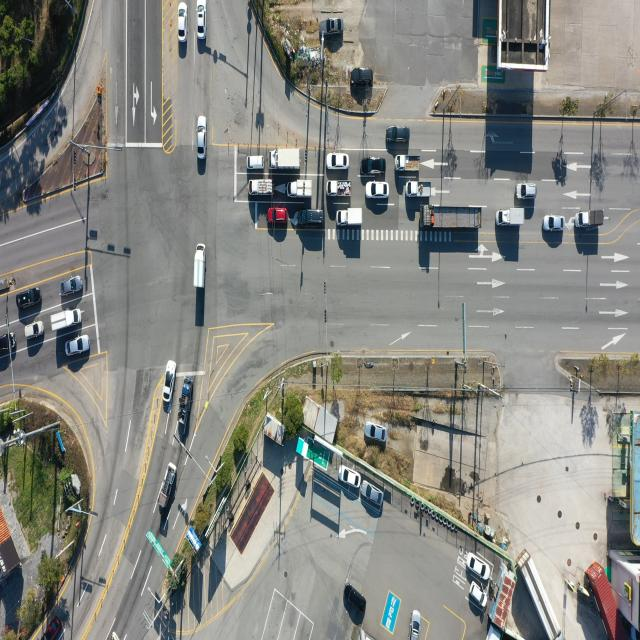car: (345, 582, 366, 615), (469, 554, 492, 581), (294, 209, 322, 229), (339, 464, 362, 488), (361, 483, 384, 507), (65, 337, 90, 358), (470, 583, 489, 609), (17, 288, 41, 308), (165, 360, 176, 403), (61, 276, 84, 296), (364, 422, 386, 442), (364, 181, 388, 199), (198, 116, 208, 159), (385, 126, 408, 144), (352, 67, 374, 85), (325, 16, 347, 34), (327, 154, 348, 172), (410, 610, 422, 640), (198, 0, 207, 40), (178, 3, 187, 43), (542, 215, 564, 231), (0, 334, 16, 356), (516, 182, 536, 199), (25, 321, 45, 338), (268, 208, 288, 225)
medium_truck: (520, 548, 563, 638), (426, 208, 483, 230), (272, 147, 302, 169)
small_truck: (158, 463, 177, 506), (178, 374, 193, 428), (51, 308, 83, 332), (496, 208, 525, 228), (573, 210, 602, 230), (336, 207, 364, 227), (286, 179, 312, 198), (406, 180, 433, 198), (328, 182, 353, 201), (360, 158, 385, 177), (396, 155, 422, 173), (195, 246, 207, 285), (250, 178, 275, 196), (247, 156, 264, 172)
